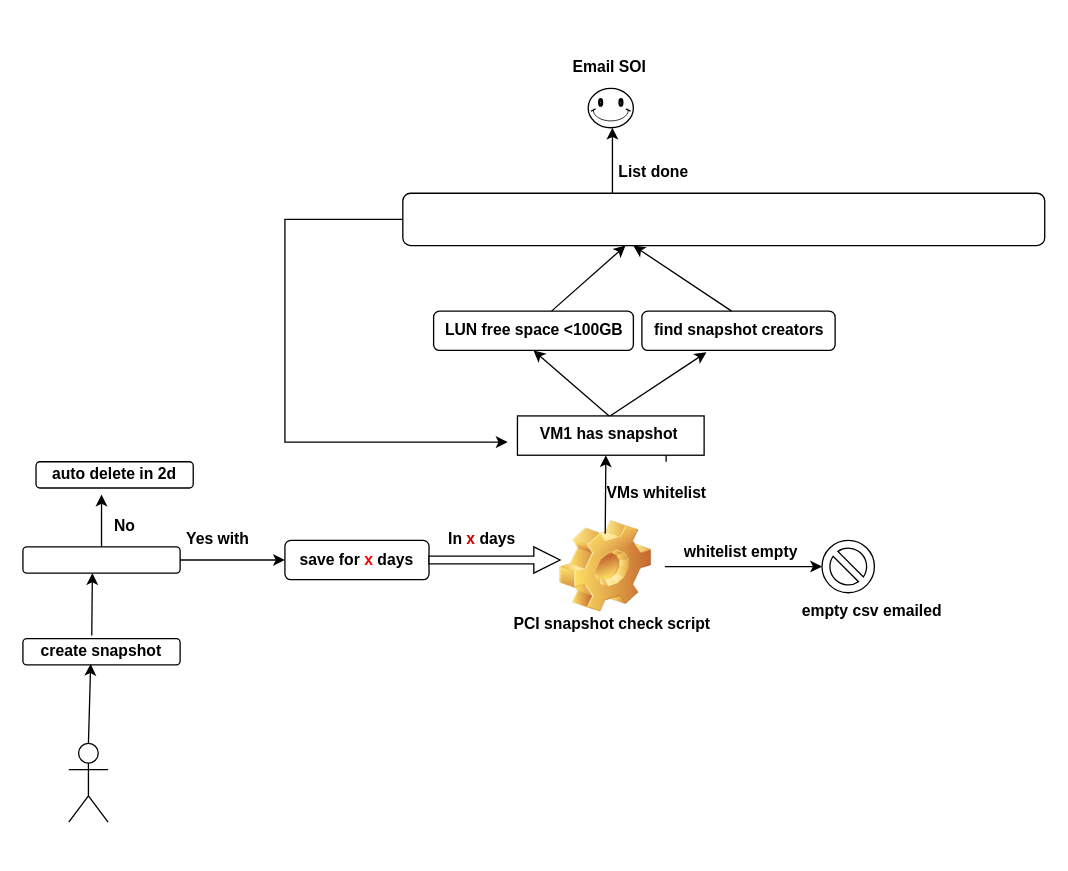
The diagram is 1068 pixels wide and 871 high, and some of its shapes have lost their labels. The centre of each missing label's shape, as x and y in pixels:
Actor: pixel 87 782
save snapshot?: pixel 101 559
VM1 (VM, VC, Powet status, creator, time, snapshot time/size, count, <100GB LUN): pixel 723 219
